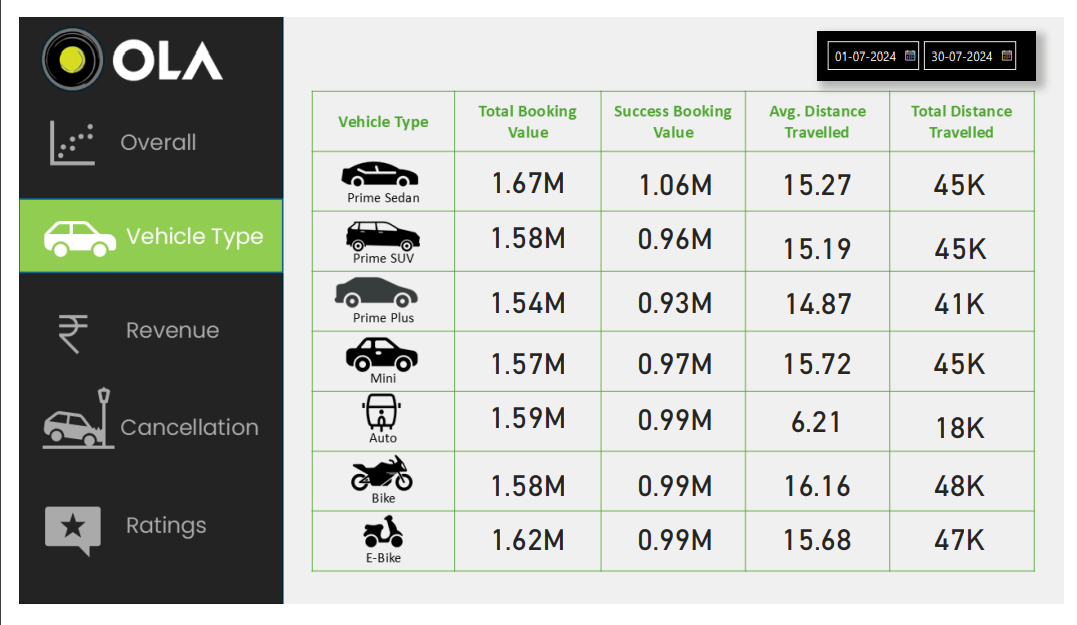

What the dashboard file says about the page in this screenshot:
{"tool":"powerbi","page":{"name":"Vehicle Type","canvas":[1280,720],"ordinal":1},"visuals":[{"type":"actionButton","box":[0,333.3,325,91.7],"z":0},{"type":"actionButton","box":[0,445,325,91.7],"z":1000},{"type":"actionButton","box":[0,578.3,325,91.7],"z":2000},{"type":"actionButton","box":[0,106.7,325,91.7],"z":3000},{"type":"card","fields":{"Values":["Sum(July.Booking_Value)"]},"box":[538.3,165,170,66.7],"z":4000},{"type":"card","fields":{"Values":["Sum(July.Booking_Value)"]},"box":[538.3,233.3,170,65],"z":5000},{"type":"card","fields":{"Values":["Sum(July.Booking_Value)"]},"box":[538.3,313.3,170,65],"z":6000},{"type":"card","fields":{"Values":["Sum(July.Booking_Value)"]},"box":[538.3,386.7,170,66.7],"z":7000},{"type":"card","fields":{"Values":["Sum(July.Booking_Value)"]},"box":[538.3,453.3,170,66.7],"z":8000},{"type":"card","fields":{"Values":["Sum(July.Booking_Value)"]},"box":[538.3,536.7,170,66.7],"z":9000},{"type":"card","fields":{"Values":["Sum(July.Booking_Value)"]},"box":[538.3,603.3,170,66.7],"z":10000},{"type":"card","fields":{"Values":["Sum(July.Booking_Value)"]},"box":[725,166.7,158.3,66.7],"z":11000},{"type":"card","fields":{"Values":["Sum(July.Booking_Value)"]},"box":[725,233.3,158.3,66.7],"z":12000},{"type":"card","fields":{"Values":["Sum(July.Booking_Value)"]},"box":[725,311.7,158.3,66.7],"z":13000},{"type":"card","fields":{"Values":["Sum(July.Booking_Value)"]},"box":[725,386.7,158.3,66.7],"z":14000},{"type":"card","fields":{"Values":["Sum(July.Booking_Value)"]},"box":[725,458.3,158.3,61.7],"z":15000},{"type":"card","fields":{"Values":["Sum(July.Booking_Value)"]},"box":[725,536.7,158.3,66.7],"z":16000},{"type":"card","fields":{"Values":["Sum(July.Booking_Value)"]},"box":[725,603.3,158.3,66.7],"z":17000},{"type":"card","fields":{"Values":["Avg(July.Ride_Distance)"]},"box":[898.3,166.7,158.3,66.7],"z":18000},{"type":"card","fields":{"Values":["Avg(July.Ride_Distance)"]},"box":[898.3,245,158.3,66.7],"z":19000},{"type":"card","fields":{"Values":["Avg(July.Ride_Distance)"]},"box":[900,313.3,158.3,66.7],"z":20000},{"type":"card","fields":{"Values":["Avg(July.Ride_Distance)"]},"box":[898.3,603.3,158.3,66.7],"z":21000},{"type":"card","fields":{"Values":["Avg(July.Ride_Distance)"]},"box":[898.3,536.7,158.3,66.7],"z":22000},{"type":"card","fields":{"Values":["Avg(July.Ride_Distance)"]},"box":[898.3,458.3,158.3,66.7],"z":23000},{"type":"card","fields":{"Values":["Avg(July.Ride_Distance)"]},"box":[898.3,386.7,158.3,66.7],"z":24000},{"type":"card","fields":{"Values":["Sum(July.Ride_Distance)"]},"box":[1073.3,166.7,158.3,66.7],"z":25000},{"type":"card","fields":{"Values":["Sum(July.Ride_Distance)"]},"box":[1075,245,158.3,66.7],"z":26000},{"type":"card","fields":{"Values":["Sum(July.Ride_Distance)"]},"box":[1073.3,313.3,158.3,66.7],"z":27000},{"type":"card","fields":{"Values":["Sum(July.Ride_Distance)"]},"box":[1073.3,386.7,158.3,66.7],"z":28000},{"type":"card","fields":{"Values":["Sum(July.Ride_Distance)"]},"box":[1073.3,460,158.3,76.7],"z":29000},{"type":"card","fields":{"Values":["Sum(July.Ride_Distance)"]},"box":[1073.3,531.7,158.3,76.7],"z":30000},{"type":"card","fields":{"Values":["Sum(July.Ride_Distance)"]},"box":[1073.3,603.3,158.3,66.7],"z":31000},{"type":"slicer","title":"Date","fields":{"Values":["July.Date"]},"box":[978,16,268,60],"z":32000}]}

Visuals, with their boxes on the page's 1280x720 design canvas (x1, y1, x2, y2). These are canvas units, not pixel positions in the 1077x625 screenshot, which may show the page scaled, cropped or inside an application window:
actionButton: x1=0, y1=333, x2=325, y2=425
actionButton: x1=0, y1=445, x2=325, y2=537
actionButton: x1=0, y1=578, x2=325, y2=670
actionButton: x1=0, y1=107, x2=325, y2=198
card - Sum(July.Booking_Value): x1=538, y1=165, x2=708, y2=232
card - Sum(July.Booking_Value): x1=538, y1=233, x2=708, y2=298
card - Sum(July.Booking_Value): x1=538, y1=313, x2=708, y2=378
card - Sum(July.Booking_Value): x1=538, y1=387, x2=708, y2=453
card - Sum(July.Booking_Value): x1=538, y1=453, x2=708, y2=520
card - Sum(July.Booking_Value): x1=538, y1=537, x2=708, y2=603
card - Sum(July.Booking_Value): x1=538, y1=603, x2=708, y2=670
card - Sum(July.Booking_Value): x1=725, y1=167, x2=883, y2=233
card - Sum(July.Booking_Value): x1=725, y1=233, x2=883, y2=300
card - Sum(July.Booking_Value): x1=725, y1=312, x2=883, y2=378
card - Sum(July.Booking_Value): x1=725, y1=387, x2=883, y2=453
card - Sum(July.Booking_Value): x1=725, y1=458, x2=883, y2=520
card - Sum(July.Booking_Value): x1=725, y1=537, x2=883, y2=603
card - Sum(July.Booking_Value): x1=725, y1=603, x2=883, y2=670
card - Avg(July.Ride_Distance): x1=898, y1=167, x2=1057, y2=233
card - Avg(July.Ride_Distance): x1=898, y1=245, x2=1057, y2=312
card - Avg(July.Ride_Distance): x1=900, y1=313, x2=1058, y2=380
card - Avg(July.Ride_Distance): x1=898, y1=603, x2=1057, y2=670
card - Avg(July.Ride_Distance): x1=898, y1=537, x2=1057, y2=603
card - Avg(July.Ride_Distance): x1=898, y1=458, x2=1057, y2=525
card - Avg(July.Ride_Distance): x1=898, y1=387, x2=1057, y2=453
card - Sum(July.Ride_Distance): x1=1073, y1=167, x2=1232, y2=233
card - Sum(July.Ride_Distance): x1=1075, y1=245, x2=1233, y2=312
card - Sum(July.Ride_Distance): x1=1073, y1=313, x2=1232, y2=380
card - Sum(July.Ride_Distance): x1=1073, y1=387, x2=1232, y2=453
card - Sum(July.Ride_Distance): x1=1073, y1=460, x2=1232, y2=537
card - Sum(July.Ride_Distance): x1=1073, y1=532, x2=1232, y2=608
card - Sum(July.Ride_Distance): x1=1073, y1=603, x2=1232, y2=670
"Date" slicer: x1=978, y1=16, x2=1246, y2=76
